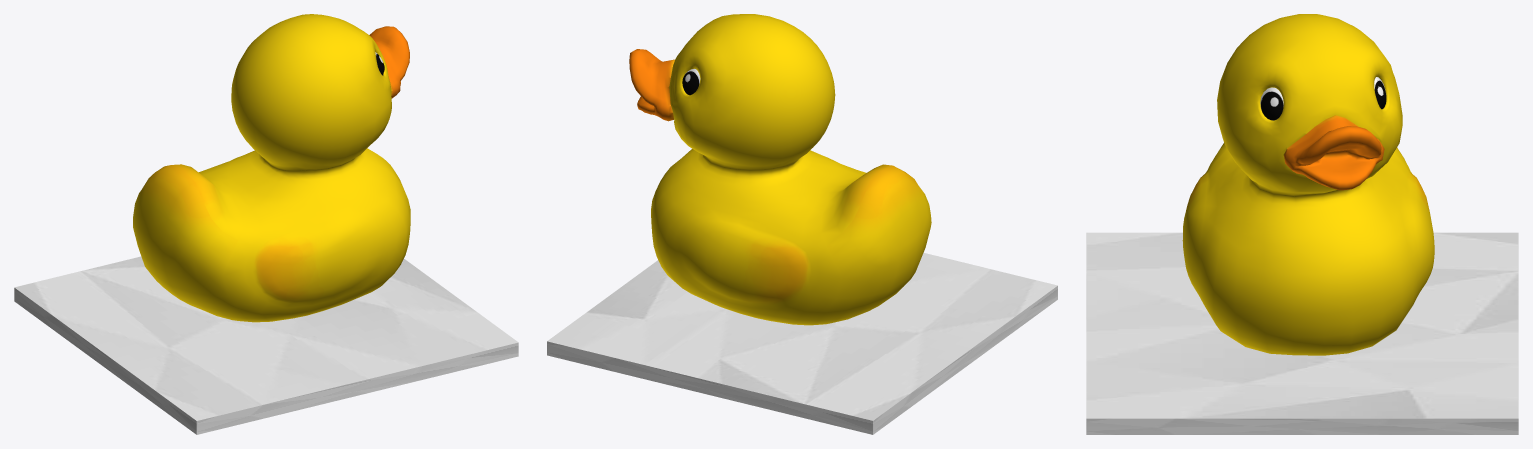
The model's file is pato.dae.
The picture shows the model from 3 angles, left to right: view 1: azimuth 30°, elevation 25°; view 2: azimuth 150°, elevation 25°; view 3: azimuth 270°, elevation 25°; orthographic projection. The views are drawn at different scales.
Parts seen in each view (by area): view 1: LOD3sp, Box001; view 2: LOD3sp, Box001; view 3: LOD3sp, Box001.
Boxes of the visible parts, bbox=[...] form: LOD3sp: bbox=[133, 14, 410, 322]; Box001: bbox=[14, 256, 518, 434]; LOD3sp: bbox=[629, 14, 931, 325]; Box001: bbox=[547, 253, 1057, 434]; LOD3sp: bbox=[1182, 14, 1434, 355]; Box001: bbox=[1086, 232, 1518, 434].
Size of the model in its own units: 137 by 134 by 119.
2 materials, 2 textured.
